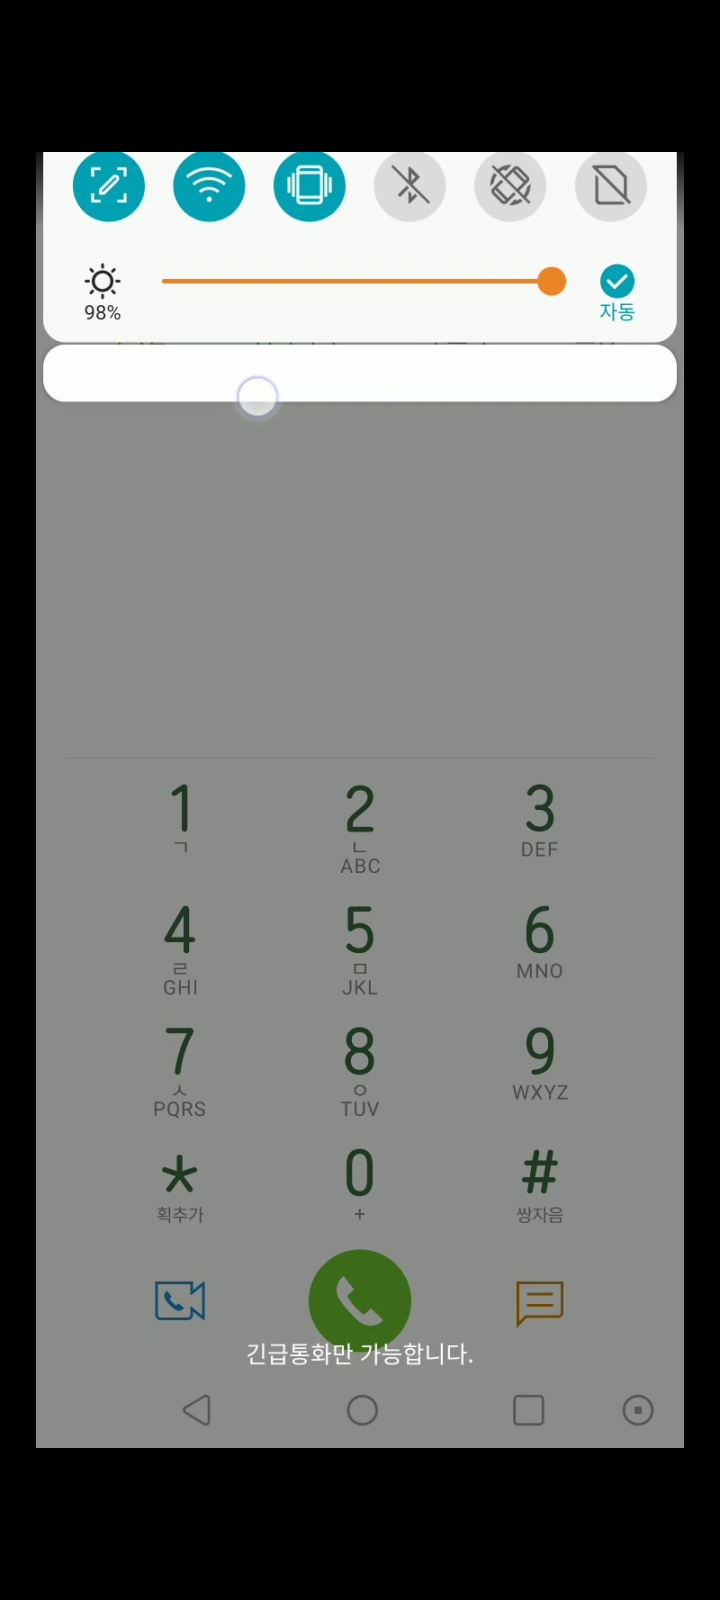Cursor: (236, 376, 281, 421)
